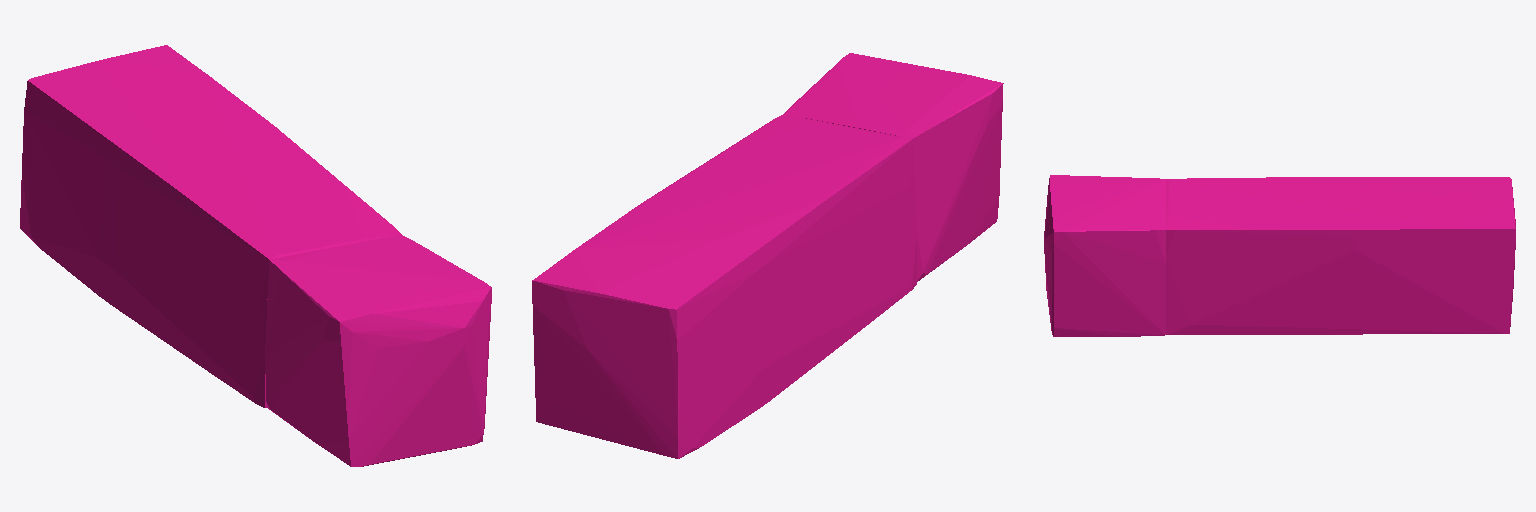
The robot description file, URDF, robot "blob604":
<robot name="blob604">
  <link name="random_obj_604">
    <contact>
      <lateral_friction value="1.0"/>
      <rolling_friction value="0.0"/>
      <inertia_scaling value="3.0"/>
      <contact_cfm value="0.0"/>
      <contact_erp value="1.0"/>
    </contact>
    <inertial>
      <origin rpy="0 0 0" xyz="0 0 0"/>
      <mass value="0.1"/>
      <inertia ixx="1" ixy="0" ixz="0" iyy="1" iyz="0" izz="0"/>
    </inertial>
    <visual>
      <origin rpy="0 0 0" xyz="0 0 0"/>
      <geometry>
        <mesh filename="604.obj" scale="0.015 0.015 0.015"/>
      </geometry>
      <material name="blockmat">
        <color rgba="0.95 0.16 0.64 1"/>
      </material>
    </visual>
    <collision>
      <origin rpy="0 0 0" xyz="0 0 0"/>
      <geometry>
        <mesh filename="604.obj" scale="0.015 0.015 0.015"/>
      </geometry>
    </collision>
  </link>
</robot>

--- Render facts (derived) ---
The picture shows the robot from 3 angles, left to right: view 1: azimuth 30°, elevation 25°; view 2: azimuth 150°, elevation 25°; view 3: azimuth 270°, elevation 25°; orthographic projection.
Model blob604 with 1 links and 0 joints (none), rooted at random_obj_604, posed every joint at zero.
Links seen in each view (by area): view 1: random_obj_604; view 2: random_obj_604; view 3: random_obj_604.
Link boxes in pixels (x1,y1,x2,y2): random_obj_604: [20, 45, 491, 466]; random_obj_604: [532, 53, 1003, 458]; random_obj_604: [1044, 175, 1515, 336].
Bounding box of the posed robot: 0.0331 × 0.1229 × 0.0327 m (x, y, z).
1 mesh visuals loaded from 1 distinct referenced files (1 OBJ).